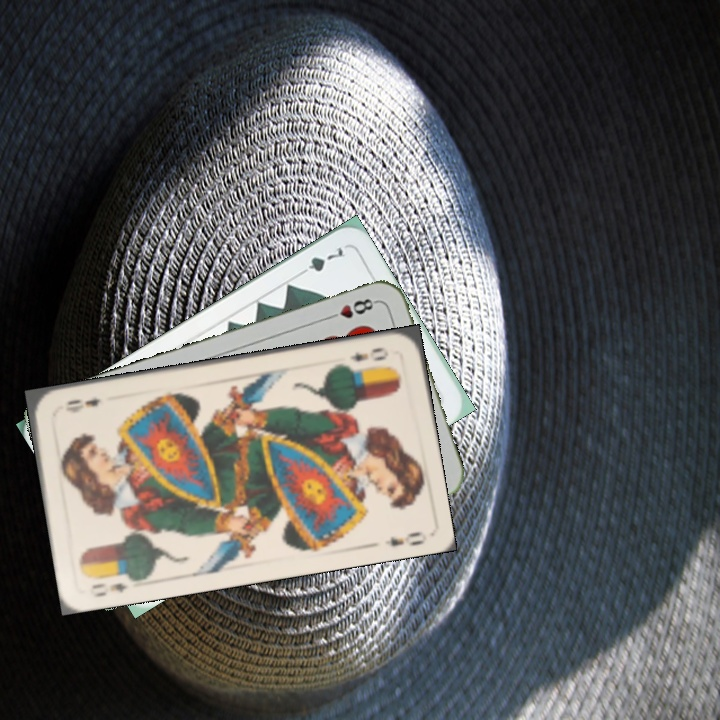EO: (346, 343, 391, 364), (88, 579, 131, 600)
G7: (293, 243, 350, 279)
H8: (323, 294, 380, 323)
